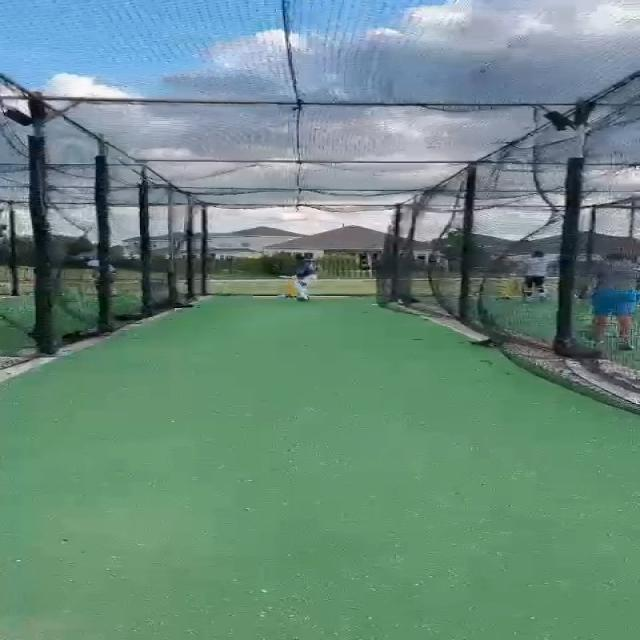batsman: (276, 255, 321, 302)
